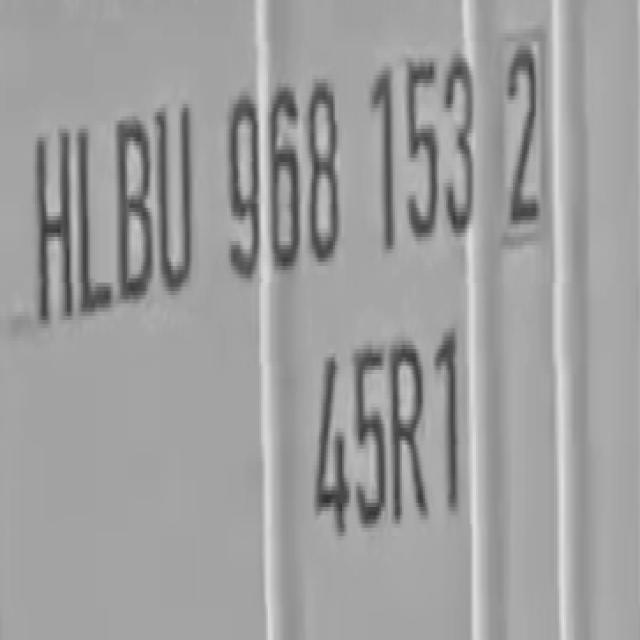dv: (501, 16, 563, 257)
owner: (27, 69, 194, 324)
serial: (220, 17, 482, 296)
size: (310, 318, 466, 560)
